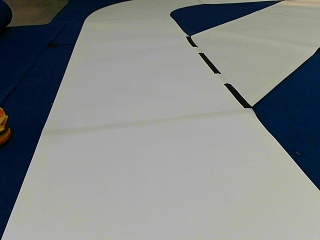burger: (0, 105, 11, 145)
